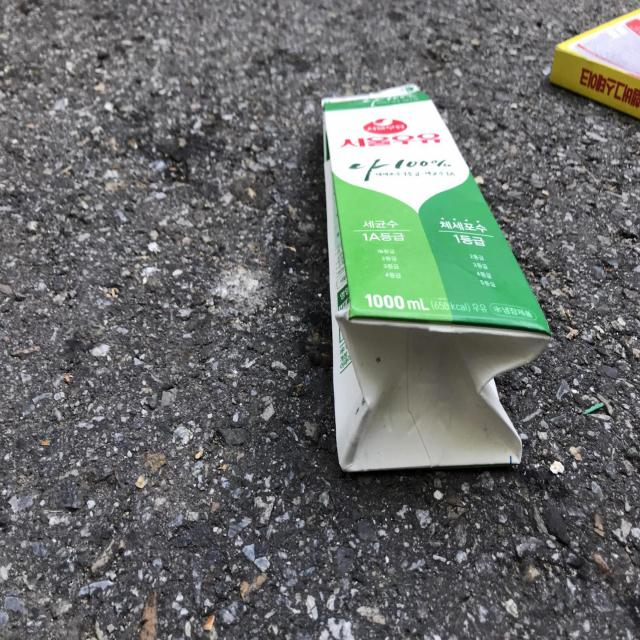paperpack: (322, 84, 551, 472), (551, 8, 640, 117)
